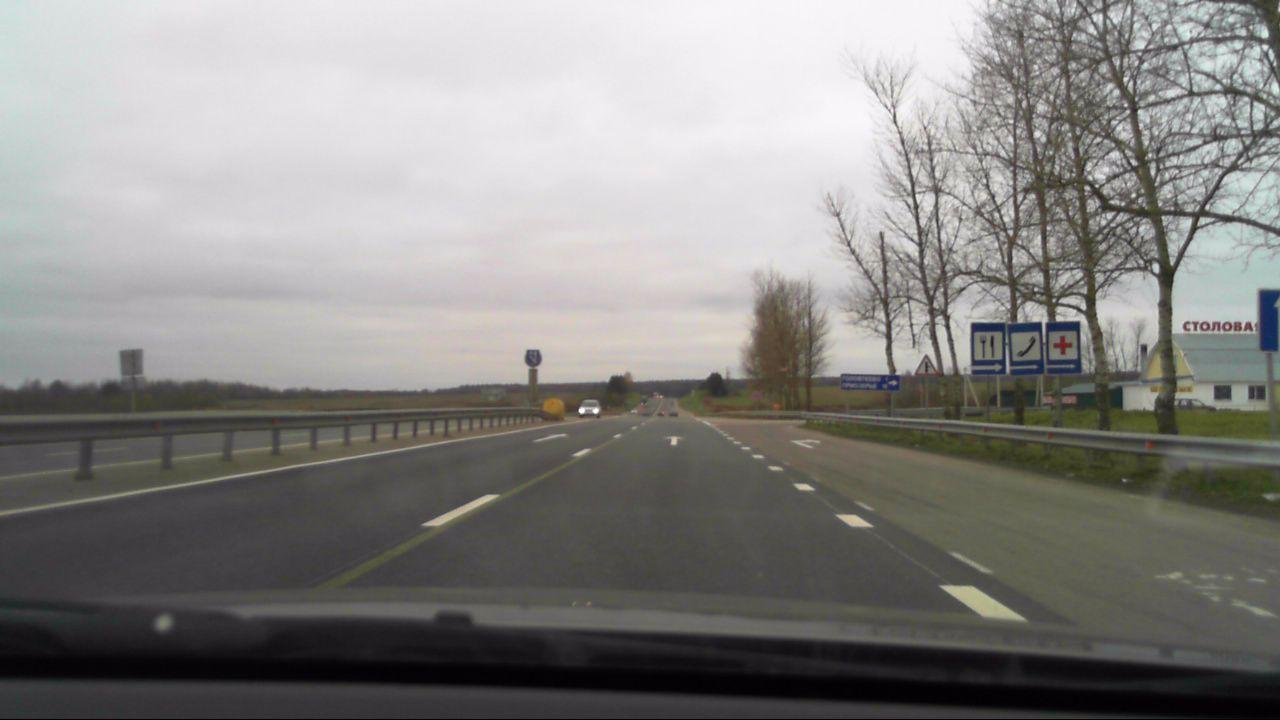2_3_2: (913, 352, 940, 377)
5_15_1: (1253, 285, 1280, 355)
5_15_4: (523, 346, 542, 367)
6_10_1: (838, 372, 901, 394)
7_1: (1045, 319, 1085, 374)
7_6: (1008, 322, 1042, 373)
7_7: (970, 322, 1006, 372)
